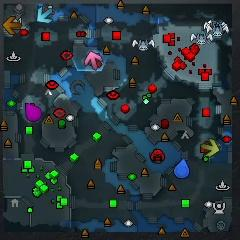p1: (174, 158, 190, 179)
p3: (25, 103, 42, 121)
x1: (84, 52, 102, 69)
x2: (201, 139, 219, 156)
x3: (37, 7, 52, 23)
x5: (2, 16, 21, 35)
